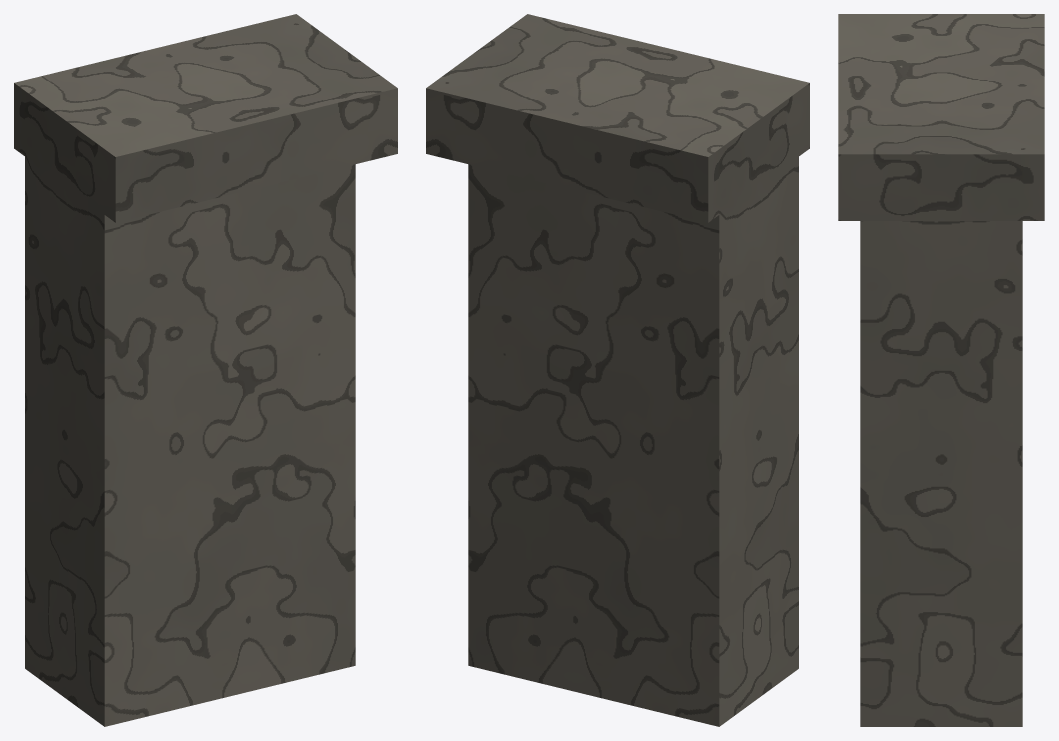
The model's file is parapet_end.glb.
3 views of the same model, side by side, from view 1: azimuth 30°, elevation 25°; view 2: azimuth 150°, elevation 25°; view 3: azimuth 270°, elevation 25° (orthographic).
Visible parts, largest first — view 1: parapet_end; view 2: parapet_end; view 3: parapet_end.
Part boxes in pixels (x1,y1,x2,y2): parapet_end: [14, 14, 397, 726]; parapet_end: [426, 14, 809, 726]; parapet_end: [838, 14, 1044, 726].
Size of the model in its own units: 0.45 by 0.88 by 0.28.
Materials: 1 (1 with a texture image).
